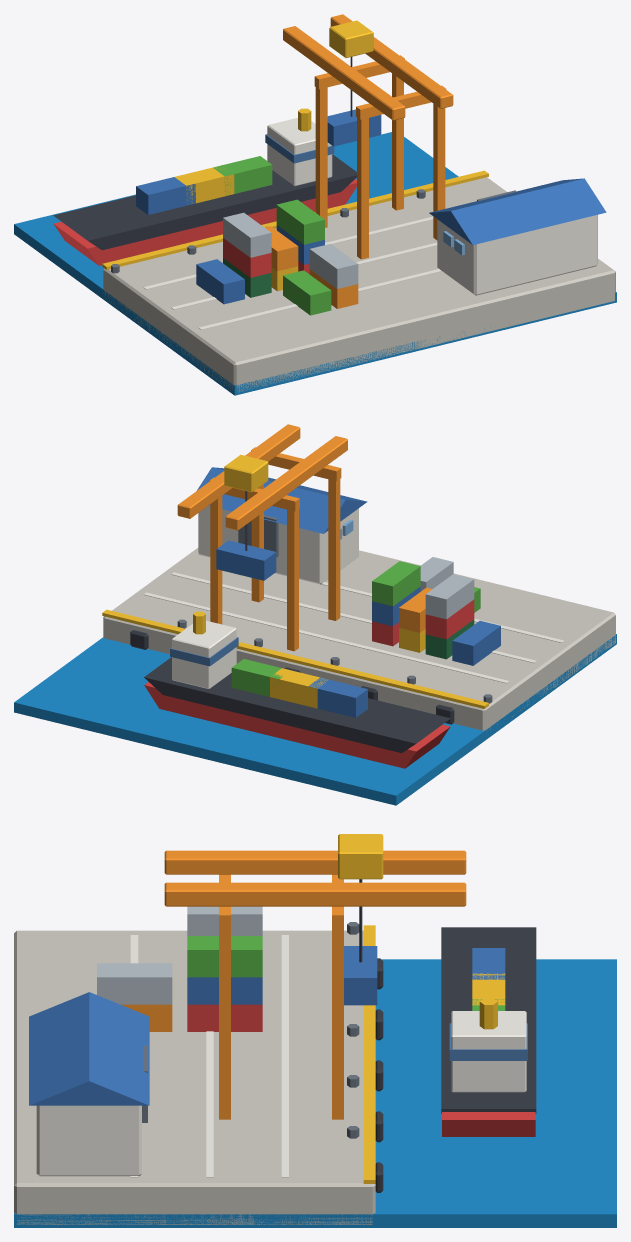
Rendered from kit-cidade-porto.glb.
The picture shows the model from 3 angles, top to bottom: view 1: azimuth 30°, elevation 25°; view 2: azimuth 150°, elevation 25°; view 3: azimuth 270°, elevation 25°; orthographic projection. The views are drawn at different scales.
Parts seen in each view (by area): view 1: corpo; view 2: corpo; view 3: corpo.
Part boxes in pixels (x1,y1,x2,y2): corpo: (14,14,616,395); corpo: (14,424,616,805); corpo: (14,834,616,1227).
Size of the model in its own units: 4 by 2.14 by 4.
